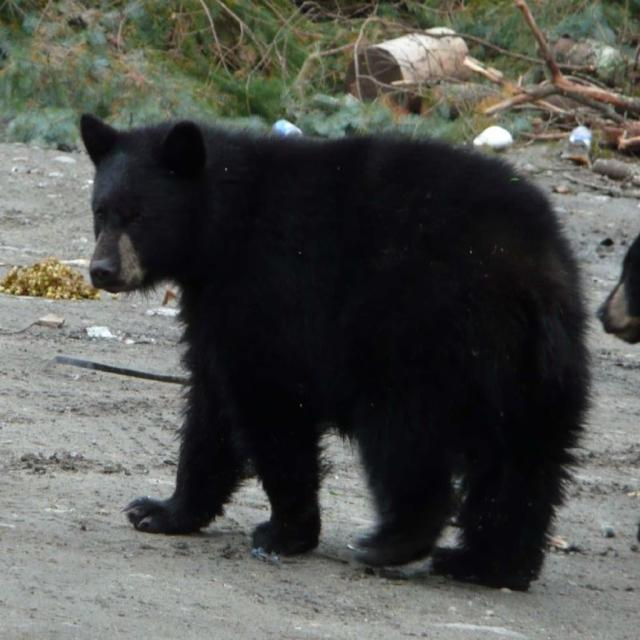Buffalo: (74, 114, 593, 592), (594, 232, 639, 345)
